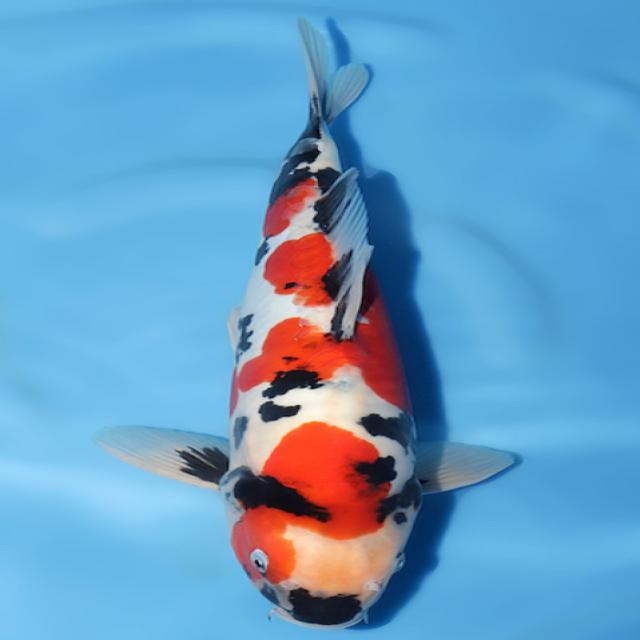Showa: (94, 14, 518, 630)
